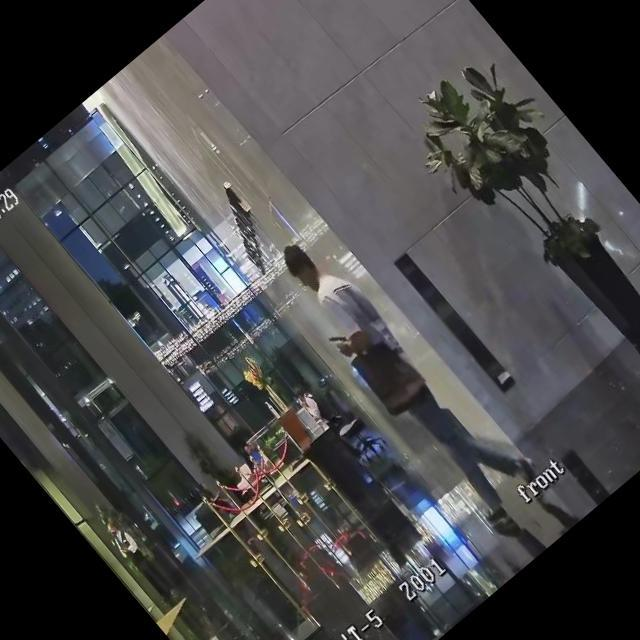person: (263, 212, 557, 540), (100, 516, 177, 602), (289, 376, 347, 439), (196, 475, 240, 523), (240, 440, 266, 468)
